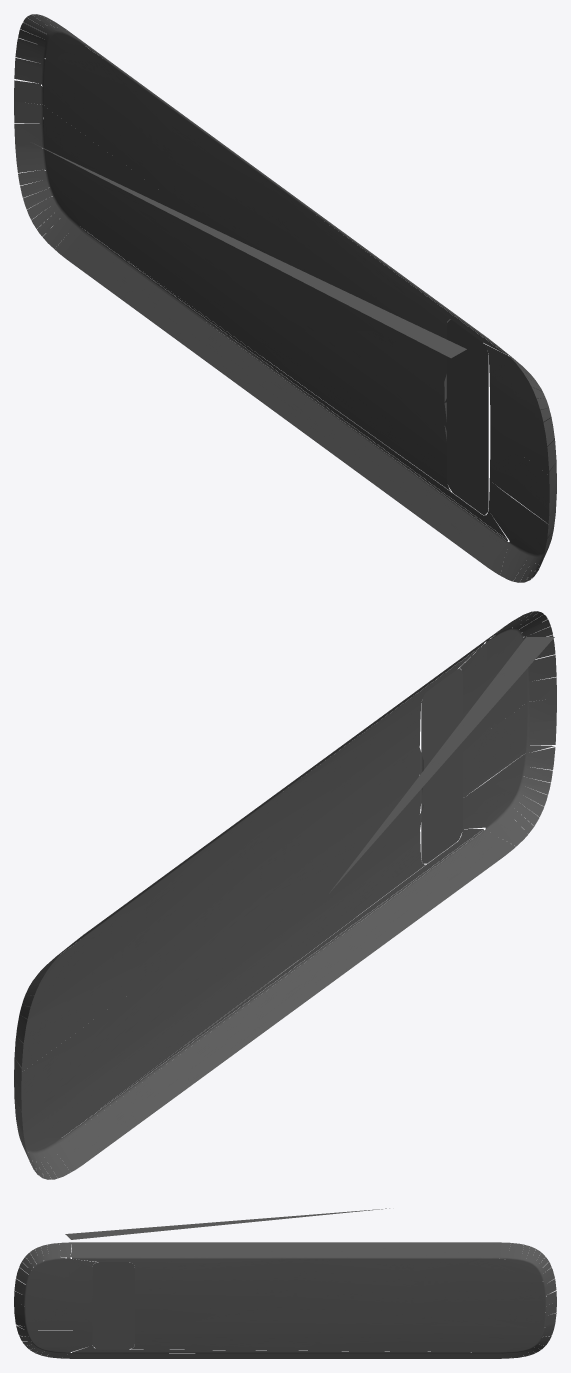
3 views of the same model, one above another, from view 1: azimuth 30°, elevation 25°; view 2: azimuth 150°, elevation 25°; view 3: azimuth 270°, elevation 25° (orthographic). The views are drawn at different scales.
Bounding box in the file's own units: 0.0797 × 0.1066 × 0.4505.
Materials: 1 (1 with a texture image).
